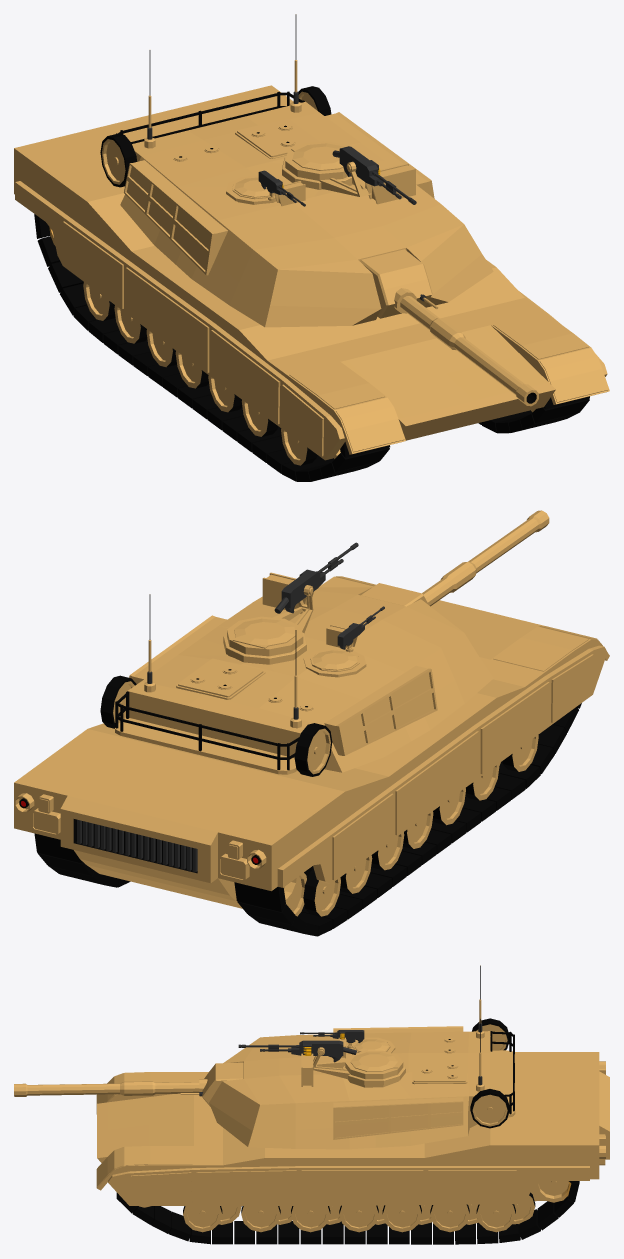
The picture shows the model from 3 angles, top to bottom: view 1: azimuth 30°, elevation 25°; view 2: azimuth 150°, elevation 25°; view 3: azimuth 270°, elevation 25°; orthographic projection. The views are drawn at different scales.
Parts seen in each view (by area): view 1: Plane, Plane.001, Cube, Cylinder.001, Cube.002, Plane.002, Cylinder.002, Cube.001; view 2: Plane, Plane.001, Cube, Cylinder.001, Cube.002, Plane.002, Cylinder.002, Plane.003, Cube.001; view 3: Plane, Plane.001, Cube, Cylinder.001, Cube.002, Plane.002, Cube.001, Cylinder.002.
Part boxes in pixels (x1=…): Plane: x1=14, y1=85, x2=609, y2=460; Plane.001: x1=100, y1=14, x2=493, y2=327; Cube: x1=34, y1=214, x2=589, y2=481; Cylinder.001: x1=359, y1=249, x2=538, y2=406; Cube.002: x1=332, y1=146, x2=416, y2=204; Plane.002: x1=291, y1=141, x2=344, y2=170; Cylinder.002: x1=258, y1=170, x2=305, y2=206; Cube.001: x1=319, y1=158, x2=371, y2=196; Plane: x1=14, y1=576, x2=609, y2=908; Plane.001: x1=100, y1=587, x2=493, y2=776; Cube: x1=34, y1=703, x2=581, y2=936; Cylinder.001: x1=361, y1=510, x2=549, y2=606; Cube.002: x1=262, y1=542, x2=358, y2=613; Plane.002: x1=232, y1=618, x2=295, y2=648; Cylinder.002: x1=326, y1=606, x2=384, y2=649; Plane.003: x1=310, y1=650, x2=357, y2=670; Cube.001: x1=273, y1=581, x2=313, y2=633; Plane: x1=96, y1=1052, x2=609, y2=1205; Plane.001: x1=209, y1=965, x2=515, y2=1149; Cube: x1=116, y1=1181, x2=579, y2=1244; Cylinder.001: x1=14, y1=1062, x2=243, y2=1106; Cube.002: x1=238, y1=1040, x2=356, y2=1086; Plane.002: x1=350, y1=1052, x2=398, y2=1071; Cube.001: x1=313, y1=1047, x2=349, y2=1079; Cylinder.002: x1=300, y1=1030, x2=364, y2=1058.
Bounding box in the file's own units: 421 × 416 × 1079.
